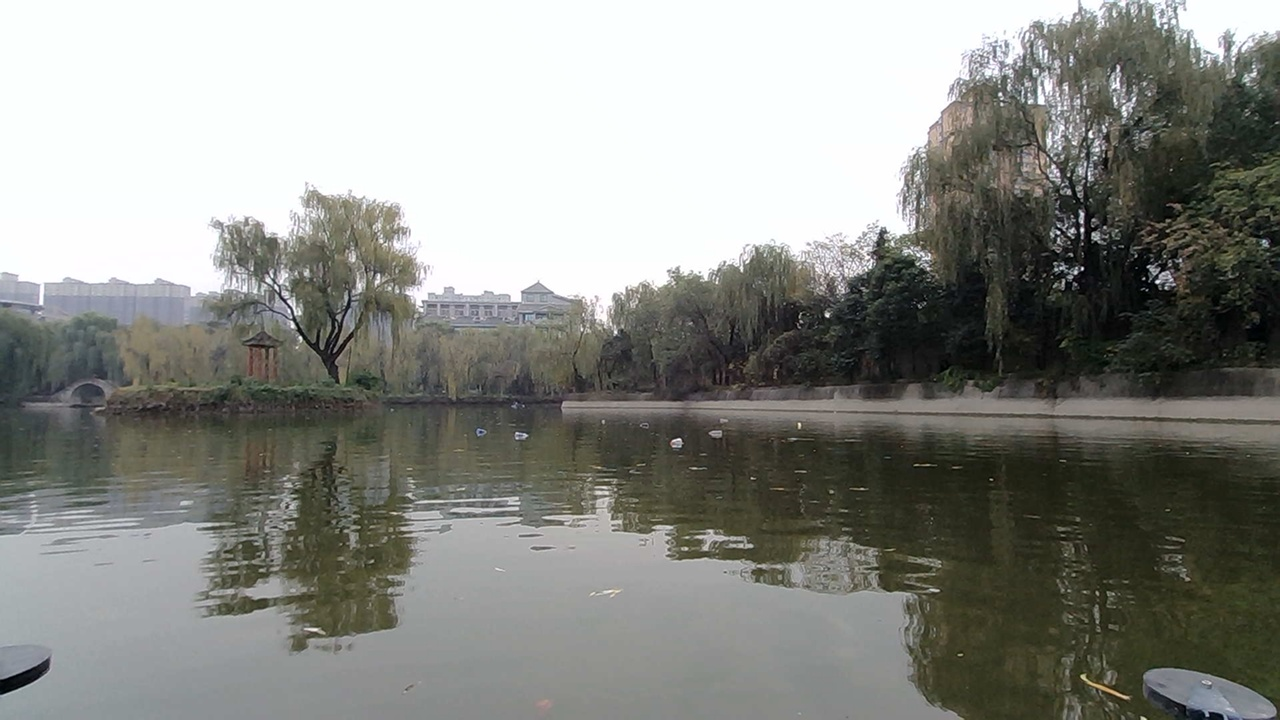bottle: (468, 409, 500, 444), (787, 412, 819, 442), (636, 408, 667, 433), (509, 418, 536, 445), (589, 408, 613, 428), (667, 432, 691, 451), (706, 422, 730, 439)
